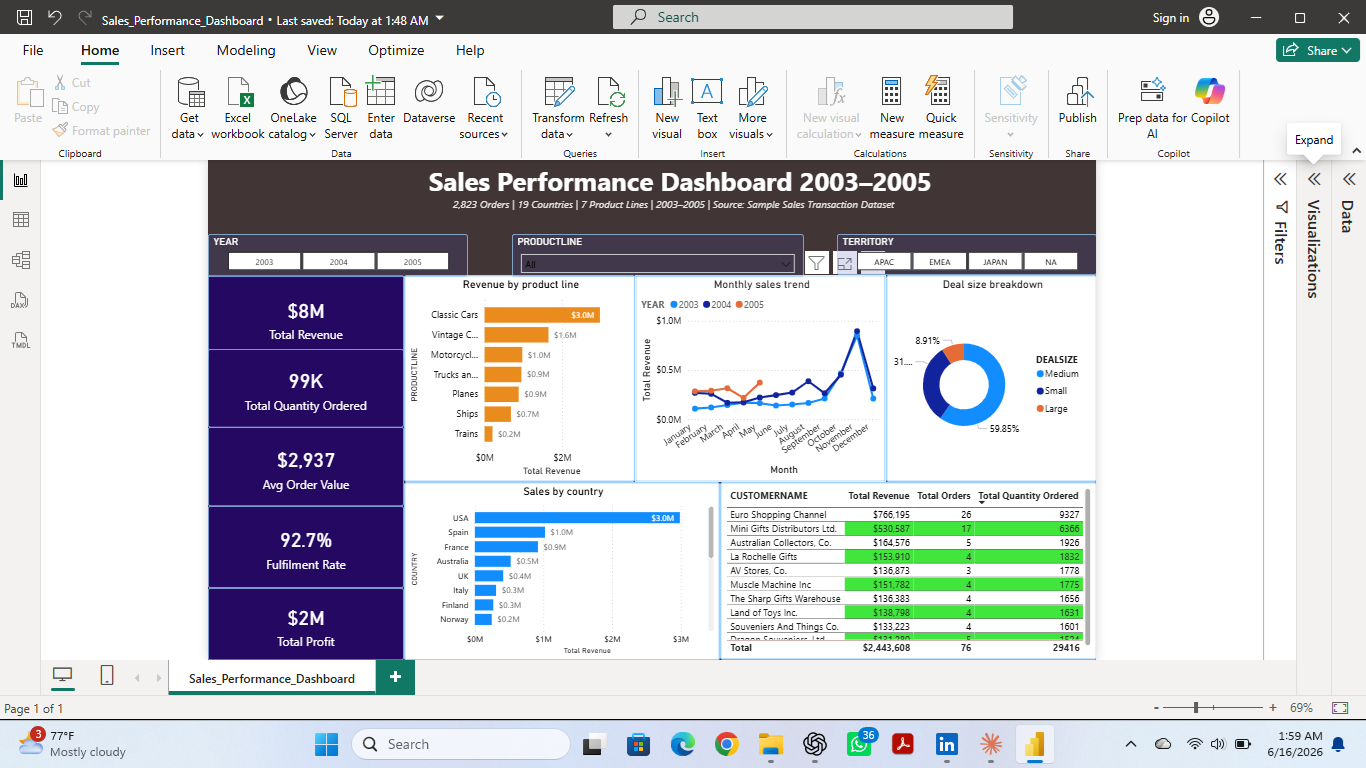

What the dashboard file says about the page in this screenshot:
{"tool":"powerbi","page":{"name":"Sales_Performance_Dashboard","canvas":[1280,720],"ordinal":0},"visuals":[{"type":"card","fields":{"Values":["_Measures.Total Revenue"]},"box":[0,165.6,282.2,122.4],"z":0},{"type":"card","fields":{"Values":["_Measures.Total Quantity Ordered"]},"box":[0,272.1,282.2,112.5],"z":1000},{"type":"card","fields":{"Values":["_Measures.Avg Order Value"]},"box":[0,384.7,282.2,114.2],"z":2000},{"type":"card","fields":{"Values":["_Measures.Fulfilment Rate"]},"box":[0,498.9,282.2,117.6],"z":3000},{"type":"card","fields":{"Values":["_Measures.Total Profit"]},"box":[0,616.5,282.2,104.1],"z":4000},{"type":"clusteredBarChart","title":"Revenue by product line","fields":{"Category":["SalesData.PRODUCTLINE"],"Y":["_Measures.Total Revenue"]},"box":[282.2,165.6,332.6,298.1],"z":5000},{"type":"lineChart","title":"Monthly sales trend ","fields":{"Category":["SalesData.MONTH-YEAR.Variation.Date Hierarchy.Month"],"Y":["_Measures.Total Revenue"],"Series":["SalesData.YEAR_ID"]},"box":[614.9,165.6,361.4,298.1],"z":6000},{"type":"clusteredBarChart","title":" Sales by country ","fields":{"Category":["SalesData.COUNTRY"],"Y":["_Measures.Total Revenue"]},"box":[282.2,463.6,455.2,257],"z":7000},{"type":"donutChart","title":" Deal size breakdown","fields":{"Category":["SalesData.DEALSIZE"],"Y":["_Measures.Total Revenue"]},"box":[976.3,165.6,303.8,298.1],"z":8000},{"type":"tableEx","fields":{"Values":["SalesData.CUSTOMERNAME","_Measures.Total Revenue","_Measures.Total Orders","_Measures.Total Quantity Ordered"]},"box":[737.3,463.7,542.9,256.3],"z":9000},{"type":"slicer","title":"YEAR","fields":{"Values":["SalesData.YEAR_ID"]},"box":[0,106.6,374.4,61.9],"z":10000},{"type":"slicer","title":"PRODUCTLINE","fields":{"Values":["SalesData.PRODUCTLINE"]},"box":[437.8,106.6,420.5,61.9],"z":11000},{"type":"slicer","title":"TERRITORY","fields":{"Values":["SalesData.TERRITORY"]},"box":[905.8,106.6,374.4,59],"z":12000},{"type":"textbox","box":[56.2,0,1224,79.2],"z":13000},{"type":"textbox","box":[99.4,47.5,1029.6,31.7],"z":14000}]}

Visuals, with their boxes on the page's 1280x720 design canvas (x1, y1, x2, y2). These are canvas units, not pixel positions in the 1366x768 screenshot, which may show the page scaled, cropped or inside an application window:
card - _Measures.Total Revenue: [x1=0, y1=166, x2=282, y2=288]
card - _Measures.Total Quantity Ordered: [x1=0, y1=272, x2=282, y2=385]
card - _Measures.Avg Order Value: [x1=0, y1=385, x2=282, y2=499]
card - _Measures.Fulfilment Rate: [x1=0, y1=499, x2=282, y2=616]
card - _Measures.Total Profit: [x1=0, y1=616, x2=282, y2=721]
"Revenue by product line" clusteredBarChart: [x1=282, y1=166, x2=615, y2=464]
"Monthly sales trend " lineChart: [x1=615, y1=166, x2=976, y2=464]
" Sales by country " clusteredBarChart: [x1=282, y1=464, x2=737, y2=721]
" Deal size breakdown" donutChart: [x1=976, y1=166, x2=1280, y2=464]
tableEx - SalesData.CUSTOMERNAME x _Measures.Total Revenue: [x1=737, y1=464, x2=1280, y2=720]
"YEAR" slicer: [x1=0, y1=107, x2=374, y2=168]
"PRODUCTLINE" slicer: [x1=438, y1=107, x2=858, y2=168]
"TERRITORY" slicer: [x1=906, y1=107, x2=1280, y2=166]
textbox: [x1=56, y1=0, x2=1280, y2=79]
textbox: [x1=99, y1=48, x2=1129, y2=79]
